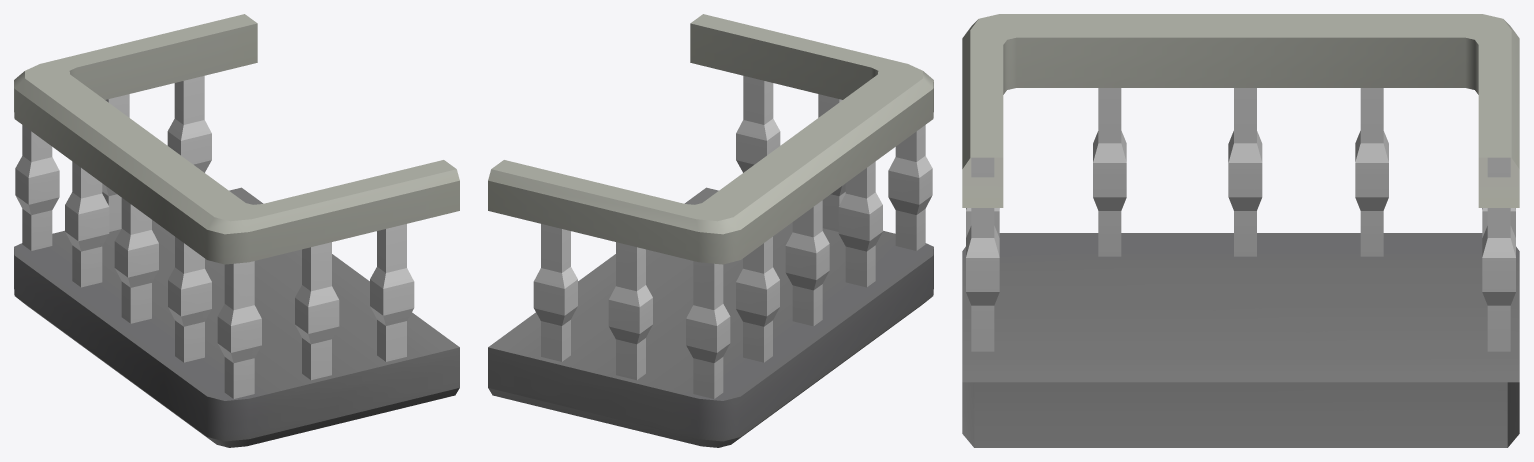
The model's file is Balcon_2_2_A.fbx.
The picture shows the model from 3 angles, left to right: view 1: azimuth 30°, elevation 25°; view 2: azimuth 150°, elevation 25°; view 3: azimuth 270°, elevation 25°; orthographic projection. The views are drawn at different scales.
Visible parts, largest first — view 1: Balcon_2_2_A; view 2: Balcon_2_2_A; view 3: Balcon_2_2_A.
Boxes of the visible parts, left/top/right/bottom form: Balcon_2_2_A: left=14, top=14, right=459, bottom=447; Balcon_2_2_A: left=488, top=14, right=933, bottom=447; Balcon_2_2_A: left=962, top=14, right=1519, bottom=447.
Size of the model in its own units: 100 by 90.92 by 158.
